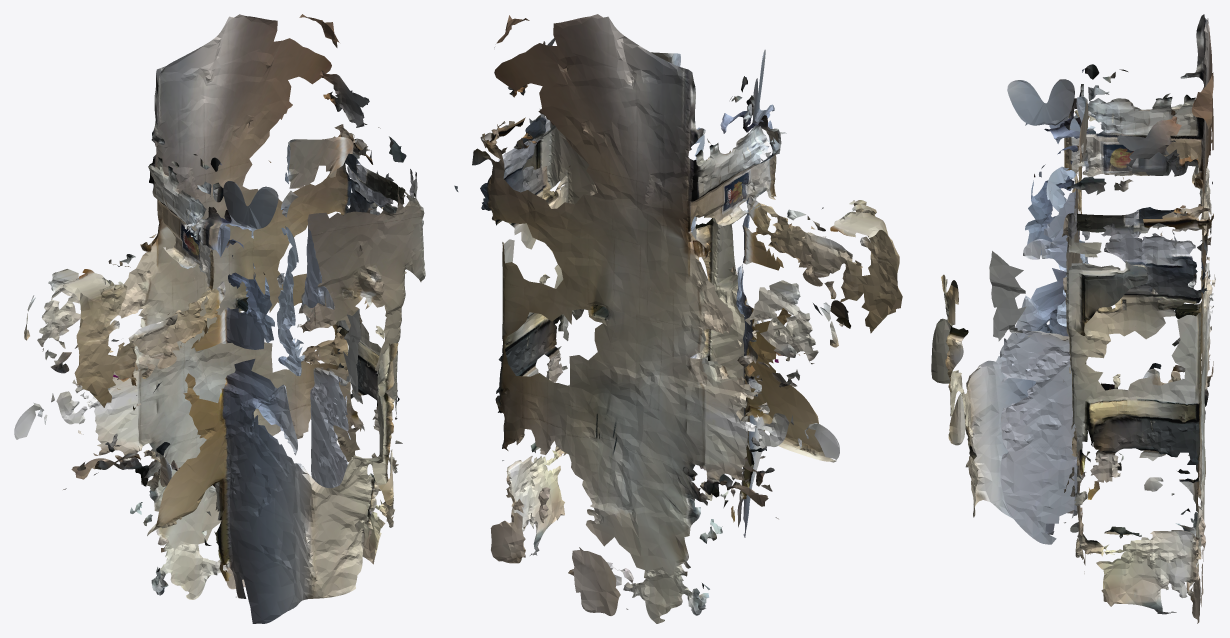
Rendered from demo_room.obj.
The picture shows the model from 3 angles, left to right: view 1: azimuth 30°, elevation 25°; view 2: azimuth 150°, elevation 25°; view 3: azimuth 270°, elevation 25°; orthographic projection. The views are drawn at different scales.
Parts seen in each view (by area): view 1: Mesh_0; view 2: Mesh_0; view 3: Mesh_0.
Part boxes in pixels (box(x1,y1,x2,y2)): Mesh_0: box(14, 14, 425, 623); Mesh_0: box(454, 14, 902, 623); Mesh_0: box(931, 14, 1215, 623).
Bounding box in the file's own units: 9.27 × 13.93 × 6.2.
Materials: 1 (1 with a texture image).
